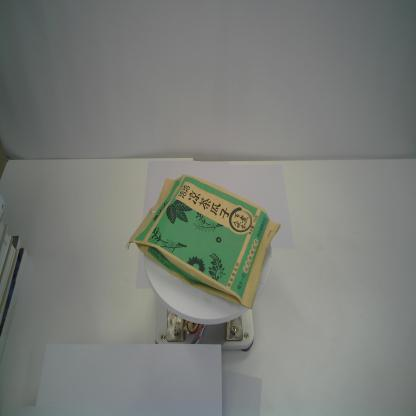Dried Food: (124, 172, 282, 310)
